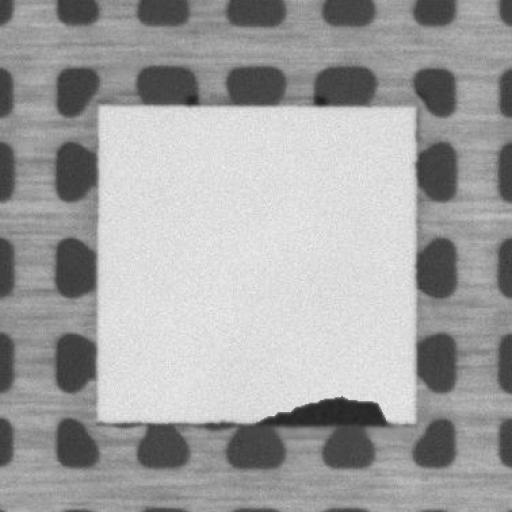DIE_BROKEN: (262, 396, 384, 425)
